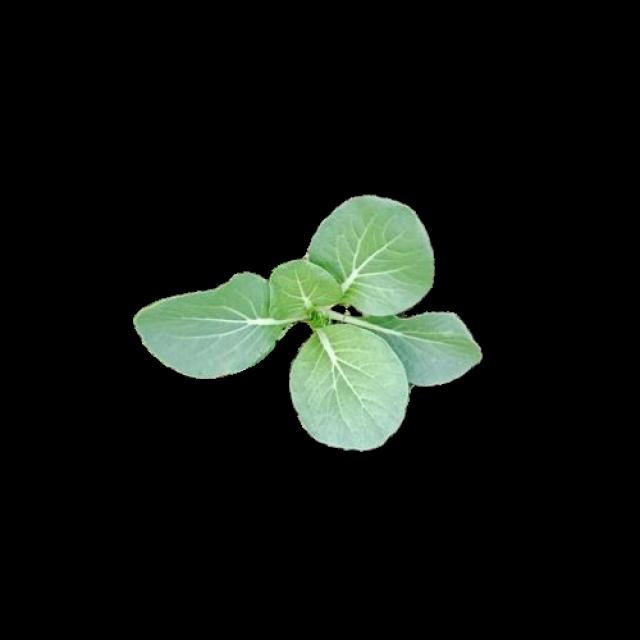healthy: (133, 192, 478, 445)
not-mature: (136, 195, 480, 448)
